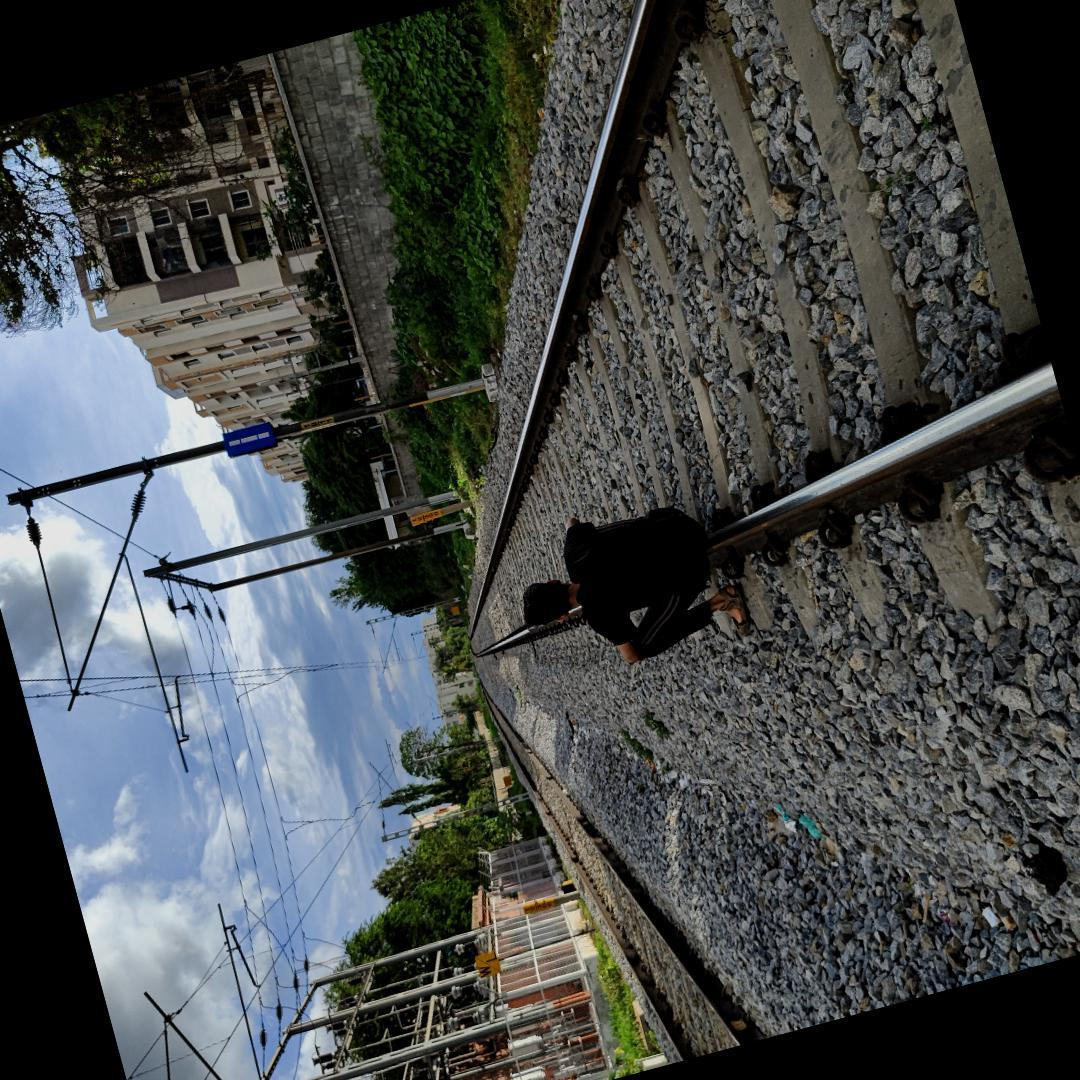sitting: (491, 474, 763, 708)
